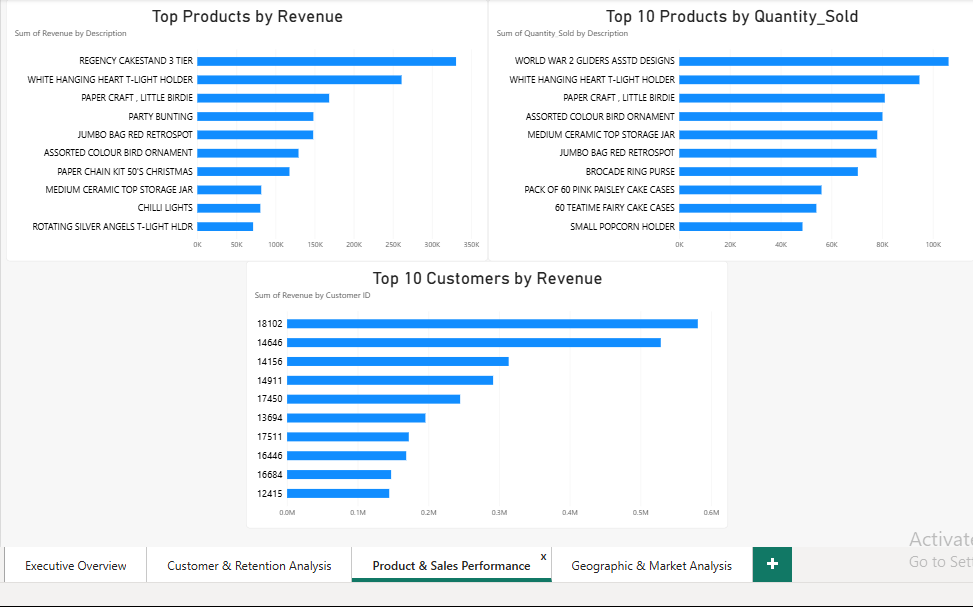

What the dashboard file says about the page in this screenshot:
{"tool":"powerbi","page":{"name":"Product & Sales Performance","canvas":[1920,1080],"ordinal":2},"visuals":[{"type":"clusteredBarChart","title":"Top Products by Revenue","fields":{"Category":["product_performance.Description"],"Y":["Sum(product_performance.Revenue)"]},"box":[10.1,0,949.9,516.5],"z":0},{"type":"clusteredBarChart","title":"Top 10 Products by Quantity_Sold","fields":{"Category":["product_performance.Description"],"Y":["Sum(product_performance.Quantity_Sold)"]},"box":[960,0,960,516.5],"z":1000},{"type":"clusteredBarChart","title":"Top 10 Customers by Revenue","fields":{"Category":["customer_summary.Customer ID"],"Y":["Sum(customer_summary.Revenue)"]},"box":[483.8,516.5,949.9,526.6],"z":2000}]}

Visuals, with their boxes on the page's 1920x1080 design canvas (x1, y1, x2, y2). These are canvas units, not pixel positions in the 973x607 screenshot, which may show the page scaled, cropped or inside an application window:
"Top Products by Revenue" clusteredBarChart: (left=10, top=0, right=960, bottom=516)
"Top 10 Products by Quantity_Sold" clusteredBarChart: (left=960, top=0, right=1920, bottom=516)
"Top 10 Customers by Revenue" clusteredBarChart: (left=484, top=516, right=1434, bottom=1043)
